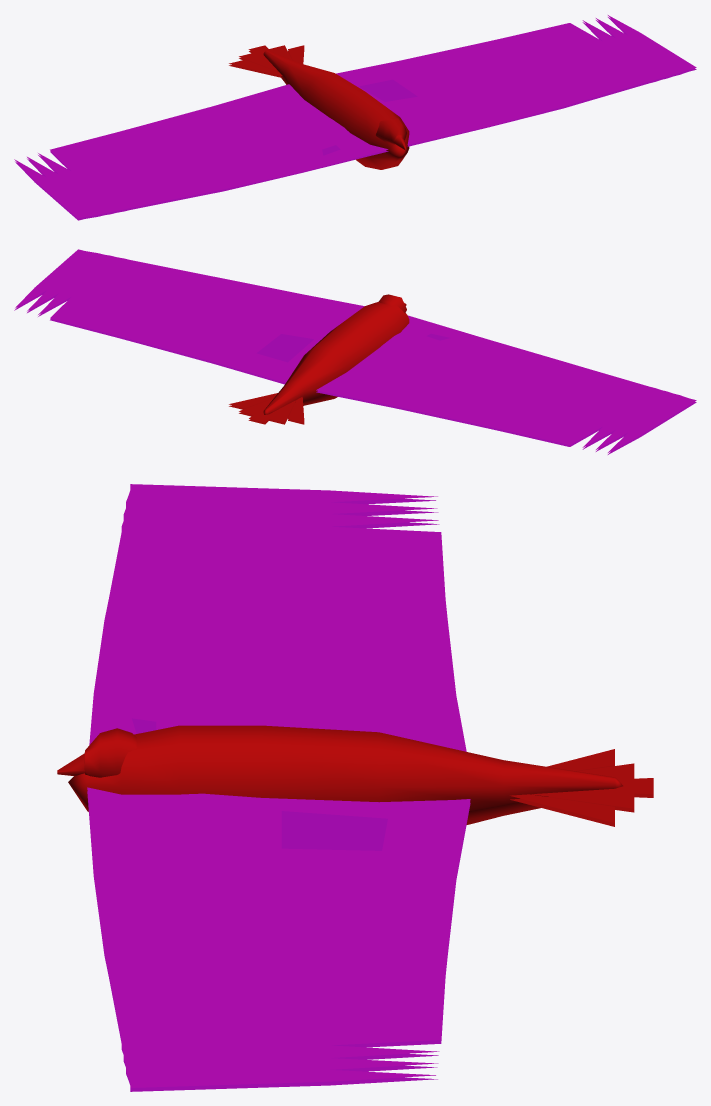
Rendered from griffon.glb.
3 renders of one model, top to bottom at view 1: azimuth 30°, elevation 25°; view 2: azimuth 150°, elevation 25°; view 3: azimuth 270°, elevation 25°, orthographic. The views are drawn at different scales.
Parts seen in each view (by area): view 1: bird; view 2: bird; view 3: bird.
Part boxes in pixels (x1,y1,x2,y2): bird: (14,15,696,220); bird: (14,249,696,454); bird: (57,484,653,1091).
Size of the model in its own units: 2.6 by 0.2227 by 1.09.
